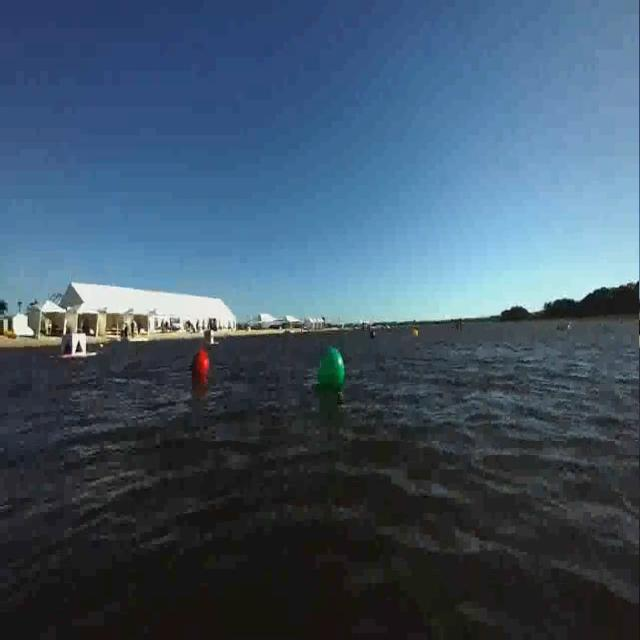green-buoy: (316, 347, 346, 392)
red-buoy: (192, 349, 210, 375)
yellow-buoy: (412, 325, 421, 339)
